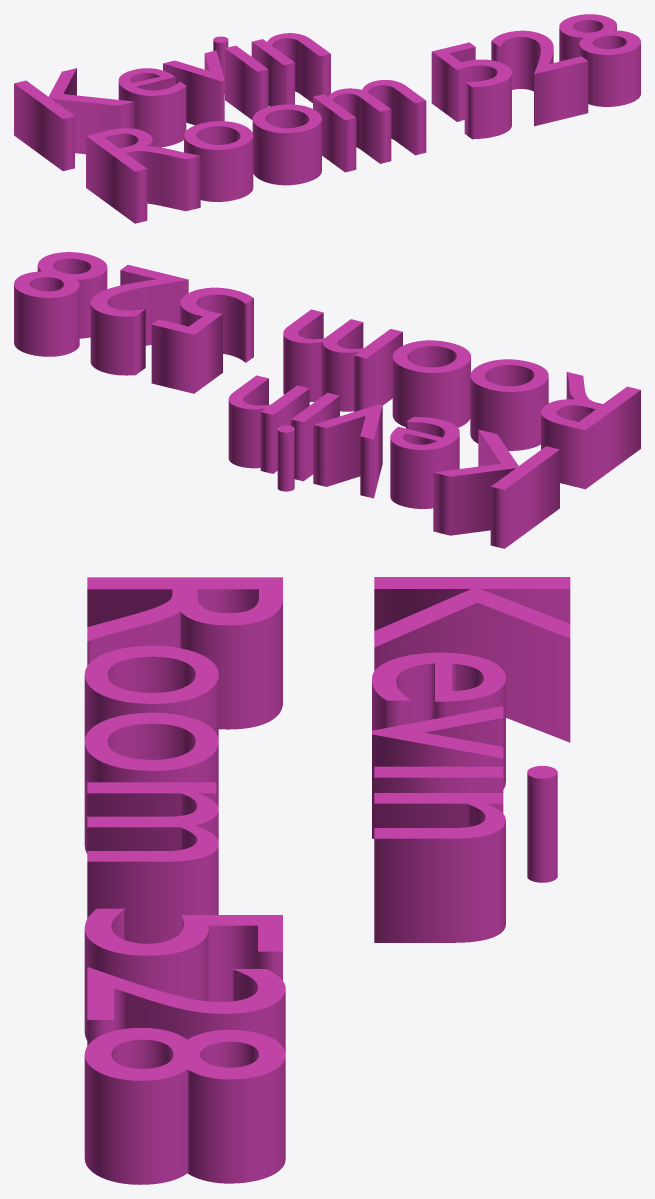
Rendered from kevin-528.gltf.
3 renders of one model, top to bottom at view 1: azimuth 30°, elevation 25°; view 2: azimuth 150°, elevation 25°; view 3: azimuth 270°, elevation 25°, orthographic. The views are drawn at different scales.
Parts seen in each view (by area): view 1: Text; view 2: Text; view 3: Text.
Boxes of the visible parts, bbox=[...] form: Text: bbox=[14, 14, 640, 223]; Text: bbox=[14, 252, 640, 548]; Text: bbox=[84, 577, 570, 1184].
Size of the model in its own units: 4.15 by 0.4 by 1.69.
